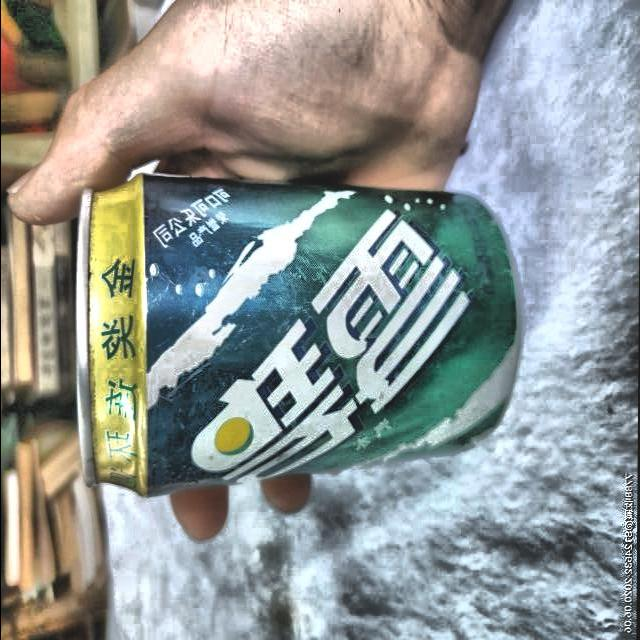Aluminum Can: (64, 166, 527, 508)
